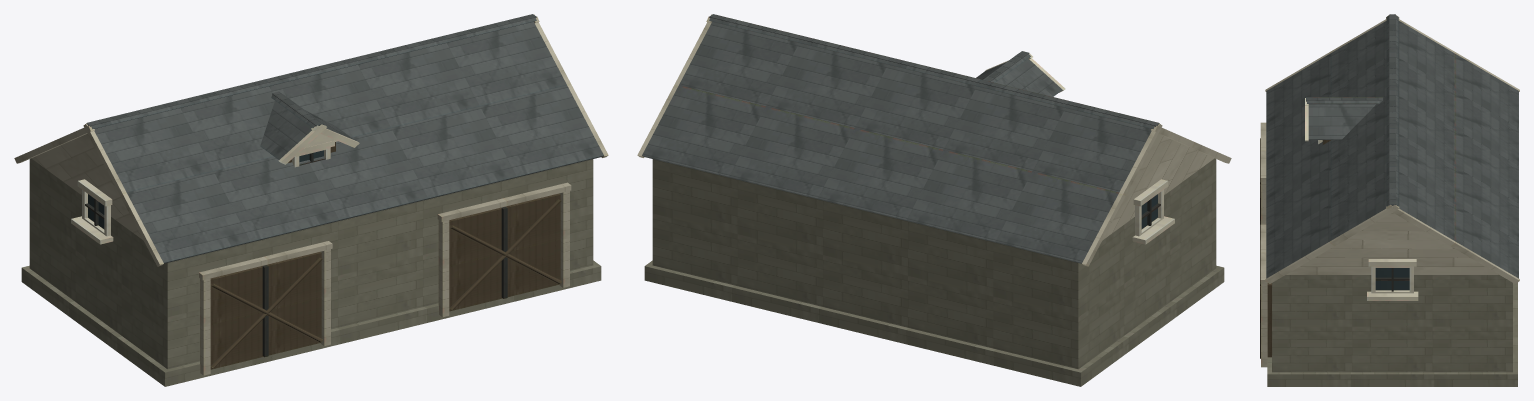
File: country-barn-stone-lod.glb
3 views of the same model, side by side, from view 1: azimuth 30°, elevation 25°; view 2: azimuth 150°, elevation 25°; view 3: azimuth 270°, elevation 25° (orthographic). The views are drawn at different scales.
Parts seen in each view (by area): view 1: country-barn-stone.001; view 2: country-barn-stone.001; view 3: country-barn-stone.001.
Part boxes in pixels (left/top/right/bottom): country-barn-stone.001: left=14, top=14, right=608, bottom=386; country-barn-stone.001: left=637, top=14, right=1231, bottom=386; country-barn-stone.001: left=1260, top=14, right=1519, bottom=386.
Bounding box in the file's own units: 9 × 4.02 × 5.13.
Materials: 1 (1 with a texture image).
